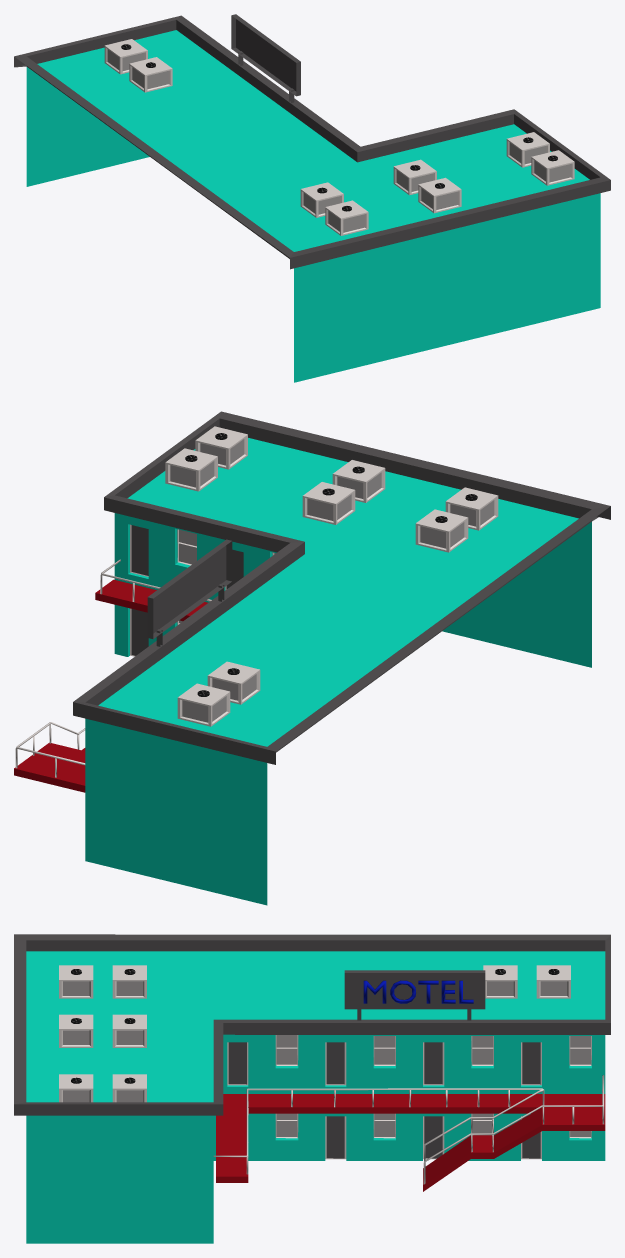
File: Motel.fbx
3 views of the same model, one above another, from view 1: azimuth 30°, elevation 25°; view 2: azimuth 150°, elevation 25°; view 3: azimuth 270°, elevation 25° (orthographic). The views are drawn at different scales.
Parts seen in each view (by area): view 1: Motel; view 2: Motel; view 3: Motel.
Part boxes in pixels (x1,y1,x2,y2): Motel: (14,14,610,382); Motel: (14,411,610,905); Motel: (14,934,610,1243).
Size of the model in its own units: 24.93 by 13.05 by 37.1.
